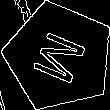M_SE: (26, 25, 92, 88)
